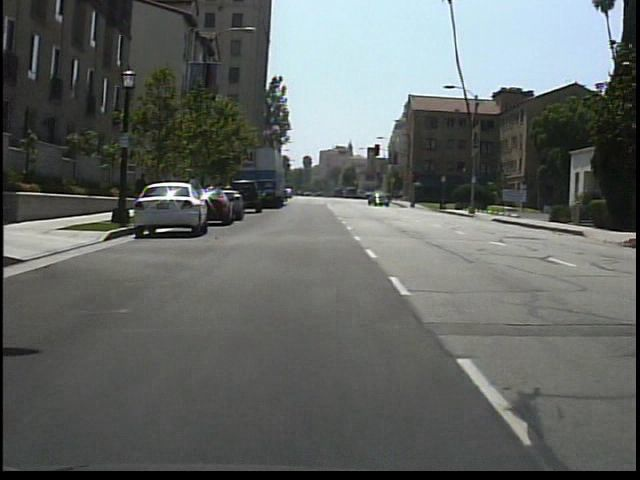person: (134, 167, 153, 217)
